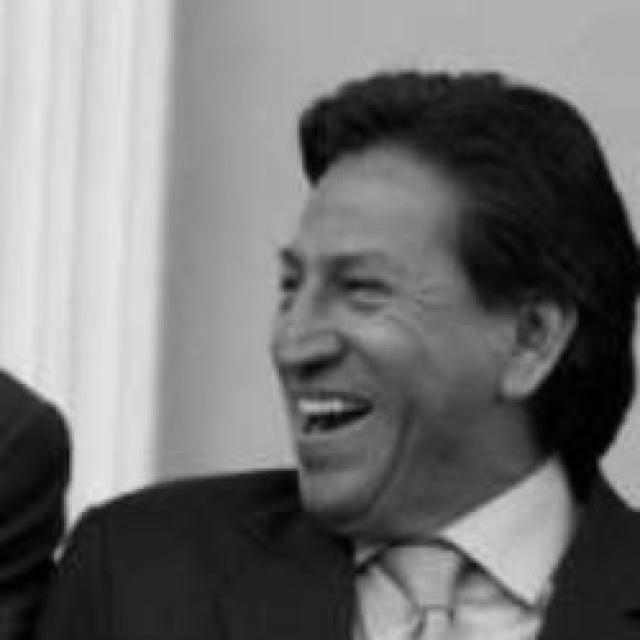real: (271, 152, 481, 524), (277, 263, 402, 305)
